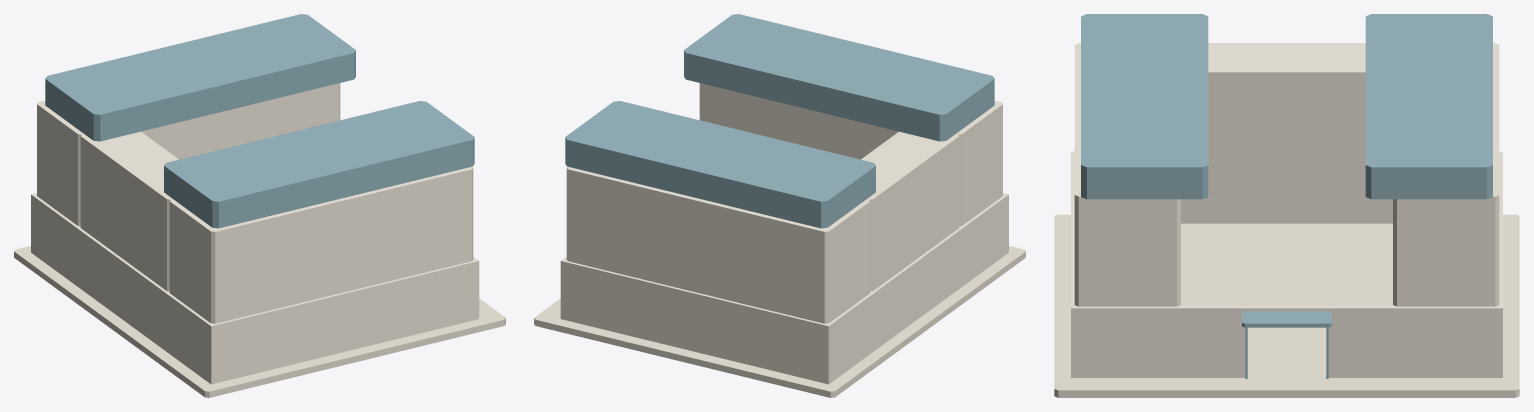
Rendered from Habitat_Courtyard_3F_v4_ShadowProxy.glb.
The picture shows the model from 3 angles, left to right: view 1: azimuth 30°, elevation 25°; view 2: azimuth 150°, elevation 25°; view 3: azimuth 270°, elevation 25°; orthographic projection. The views are drawn at different scales.
Parts seen in each view (by area): view 1: Habitat_Courtyard_3F_v4_ShadowProxy / Structure, Habitat_Courtyard_3F_v4_ShadowProxy / Roof, Habitat_Courtyard_3F_v4_ShadowProxy / Foundation; view 2: Habitat_Courtyard_3F_v4_ShadowProxy / Structure, Habitat_Courtyard_3F_v4_ShadowProxy / Roof, Habitat_Courtyard_3F_v4_ShadowProxy / Foundation; view 3: Habitat_Courtyard_3F_v4_ShadowProxy / Structure, Habitat_Courtyard_3F_v4_ShadowProxy / Roof, Habitat_Courtyard_3F_v4_ShadowProxy / Foundation, Habitat_Courtyard_3F_v4_ShadowProxy / Entrance modules.
Part boxes in pixels (left/top/right/bottom): Habitat_Courtyard_3F_v4_ShadowProxy / Structure: left=31, top=83, right=479, bottom=384; Habitat_Courtyard_3F_v4_ShadowProxy / Roof: left=45, top=14, right=474, bottom=228; Habitat_Courtyard_3F_v4_ShadowProxy / Foundation: left=14, top=246, right=505, bottom=397; Habitat_Courtyard_3F_v4_ShadowProxy / Structure: left=560, top=83, right=1008, bottom=384; Habitat_Courtyard_3F_v4_ShadowProxy / Roof: left=565, top=14, right=994, bottom=228; Habitat_Courtyard_3F_v4_ShadowProxy / Foundation: left=534, top=246, right=1025, bottom=397; Habitat_Courtyard_3F_v4_ShadowProxy / Structure: left=1071, top=43, right=1502, bottom=377; Habitat_Courtyard_3F_v4_ShadowProxy / Roof: left=1081, top=14, right=1492, bottom=199; Habitat_Courtyard_3F_v4_ShadowProxy / Foundation: left=1054, top=214, right=1519, bottom=397; Habitat_Courtyard_3F_v4_ShadowProxy / Entrance modules: left=1242, top=311, right=1331, bottom=393.
Bounding box in the file's own units: 17 × 9.88 × 19.
